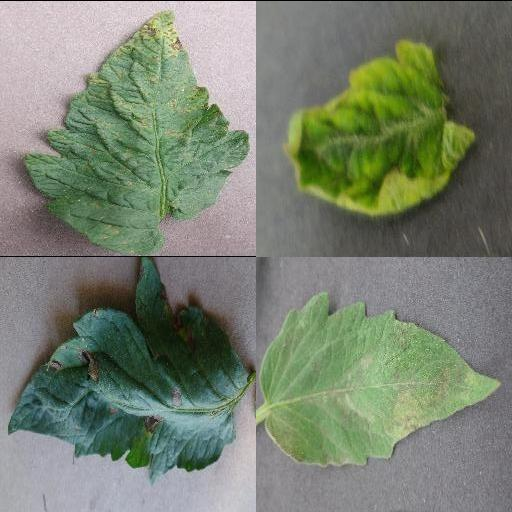Early Blight: (6, 256, 256, 480)
Late Blight: (260, 289, 502, 467)
Septoria: (23, 9, 251, 255)
Yellow Leaf Curl Virus: (280, 38, 478, 216)
